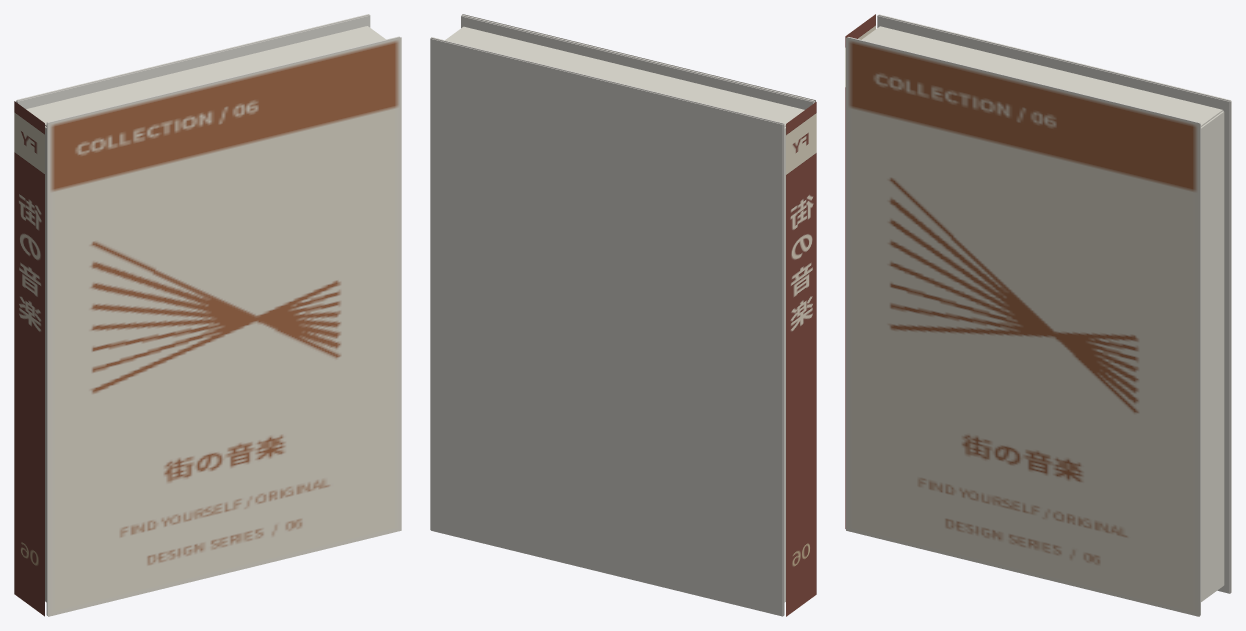
File: sku_v23_book_6.glb
3 views of the same model, side by side, from view 1: azimuth 30°, elevation 25°; view 2: azimuth 150°, elevation 25°; view 3: azimuth 330°, elevation 25° (orthographic).
Visible parts, largest first — view 1: sku_v23_book_6_V23_original_editorial, sku_v23_book_6_V23_printed_genre_spines, sku_v23_book_6_Paper_page_edges, sku_v23_book_6_Warm_white_coating; view 2: sku_v23_book_6_Warm_white_coating, sku_v23_book_6_V23_printed_genre_spines, sku_v23_book_6_Paper_page_edges; view 3: sku_v23_book_6_V23_original_editorial, sku_v23_book_6_Paper_page_edges, sku_v23_book_6_Warm_white_coating, sku_v23_book_6_V23_printed_genre_spines.
Boxes of the visible parts, bbox=[...] form: sku_v23_book_6_V23_original_editorial: bbox=[48, 37, 401, 616]; sku_v23_book_6_V23_printed_genre_spines: bbox=[14, 101, 44, 616]; sku_v23_book_6_Paper_page_edges: bbox=[26, 26, 385, 602]; sku_v23_book_6_Warm_white_coating: bbox=[16, 14, 400, 615]; sku_v23_book_6_Warm_white_coating: bbox=[430, 14, 814, 616]; sku_v23_book_6_V23_printed_genre_spines: bbox=[786, 102, 816, 616]; sku_v23_book_6_Paper_page_edges: bbox=[445, 26, 804, 602]; sku_v23_book_6_V23_original_editorial: bbox=[846, 37, 1199, 616]; sku_v23_book_6_Paper_page_edges: bbox=[862, 26, 1224, 601]; sku_v23_book_6_Warm_white_coating: bbox=[847, 14, 1231, 615]; sku_v23_book_6_V23_printed_genre_spines: bbox=[845, 14, 875, 528].
Bounding box in the file's own units: 0.181 × 0.24 × 0.0287.
4 materials, 2 textured.
